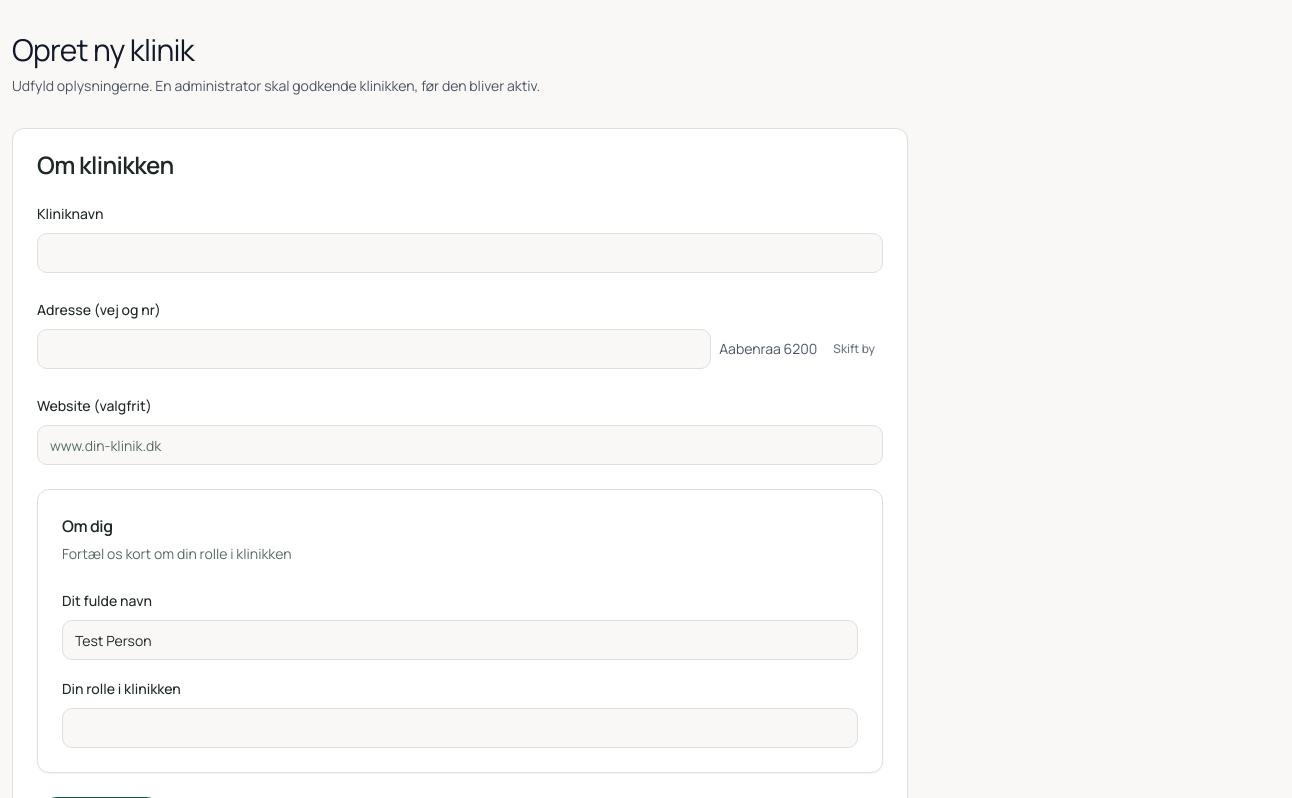
Scenario: CreateClinicRequestPage › shows a clinic name field error when the name is already taken
Type "Dobbelt Navn" into the field labelled "Kliniknavn".
click(460, 253); type("Dobbelt Navn")  # box 37,233 -> 883,273
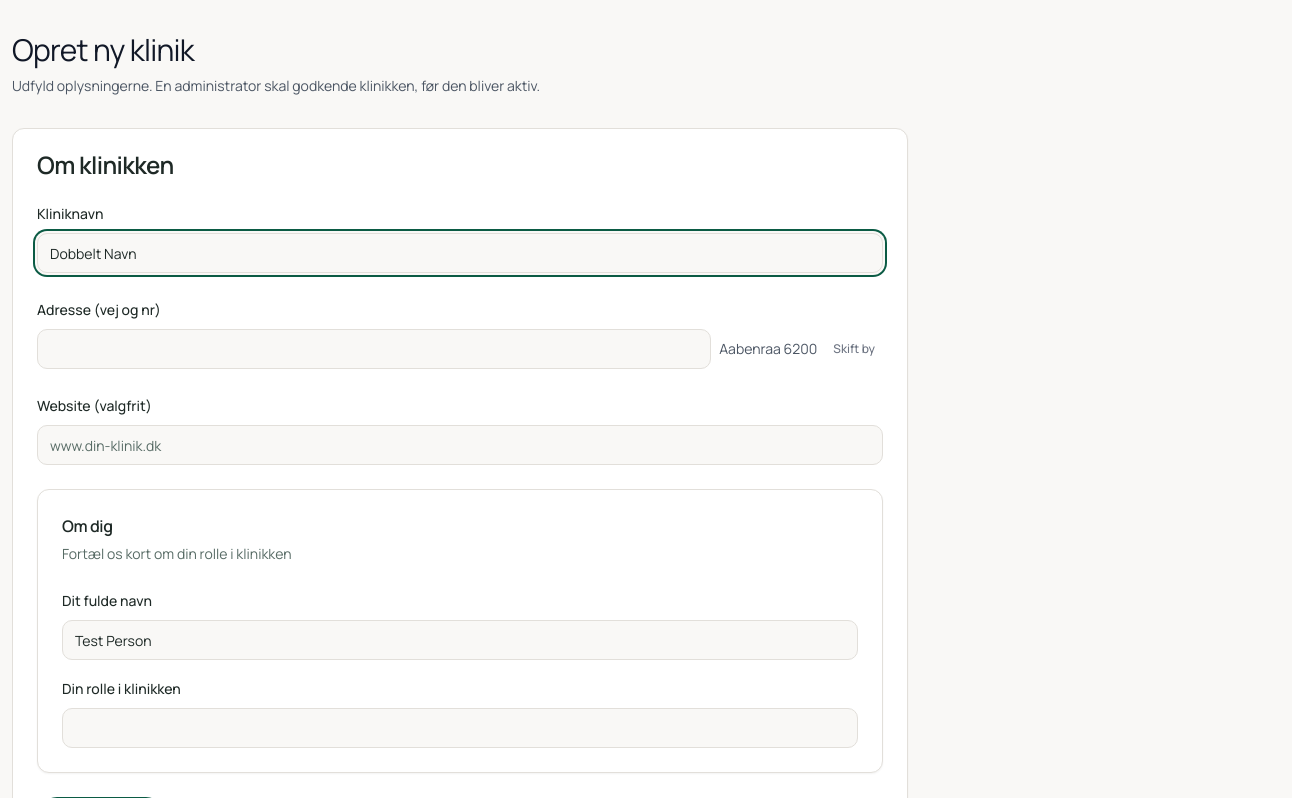
Type "Testvej 10" into the field labelled "Adresse (vej og nr)".
click(374, 349); type("Testvej 10")  # box 37,329 -> 711,369
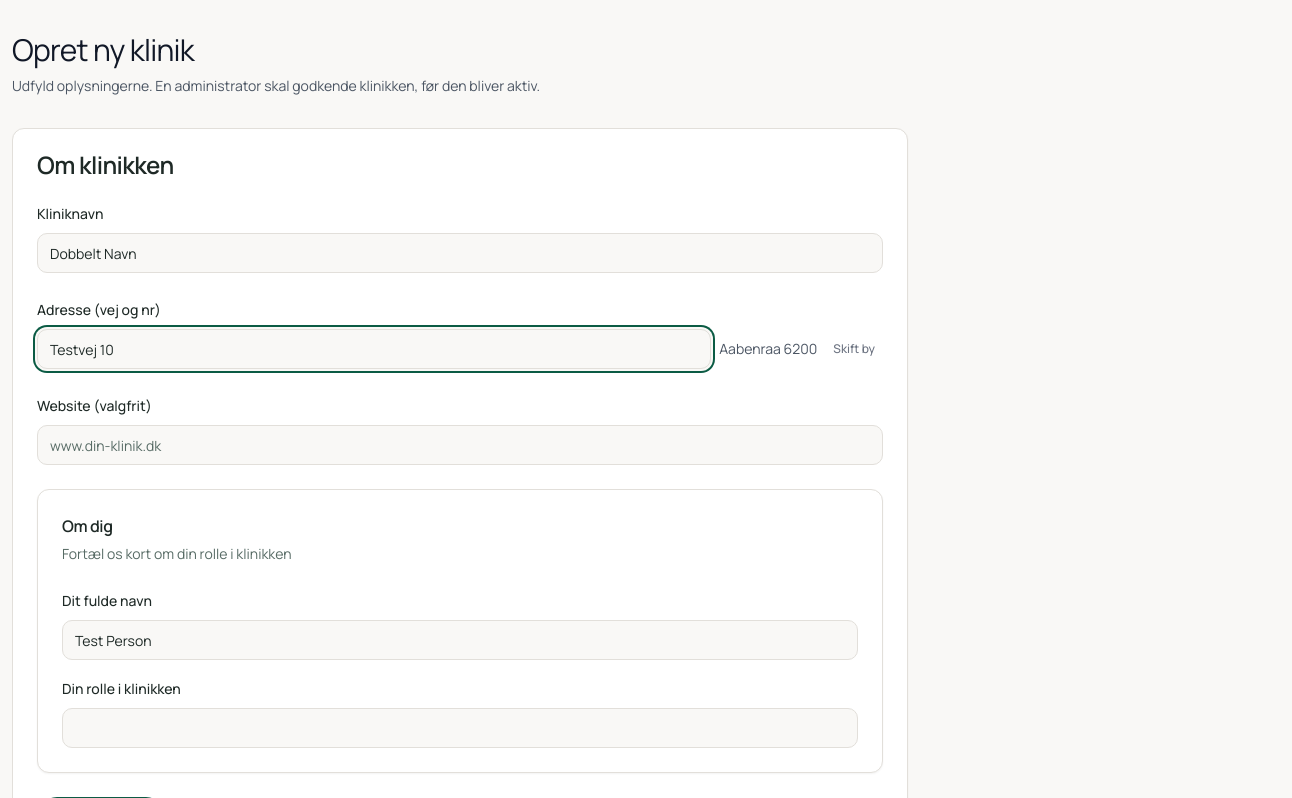
Type "Ejer" into the field labelled "Din rolle i klinikken".
click(460, 728); type("Ejer")  # box 62,708 -> 858,748
(page scrolled)
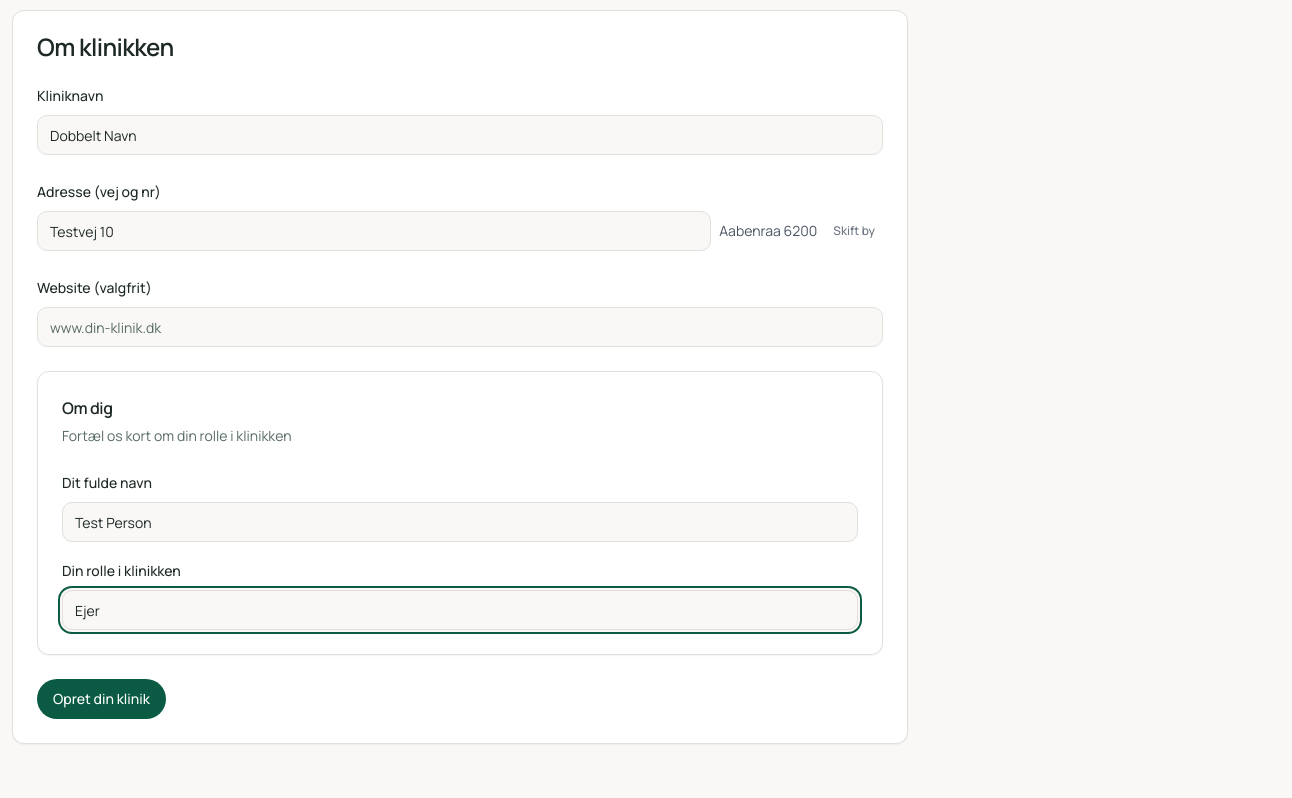
Click the button "Opret din klinik".
click(101, 699)  # box 37,679 -> 166,719
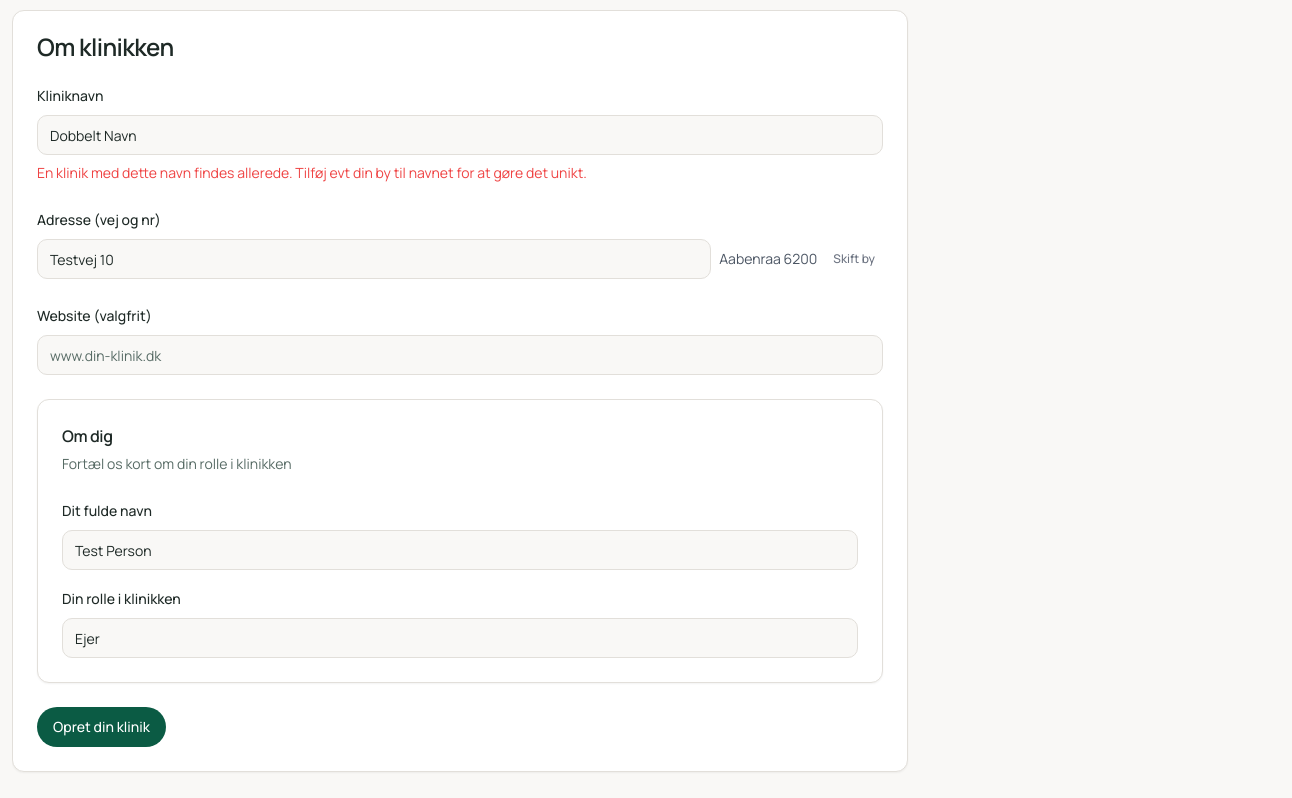
Now the text "En klinik med dette navn findes allerede. Tilføj evt din by til navnet for at gøre det unikt." is shown, box 37,163 -> 587,182
